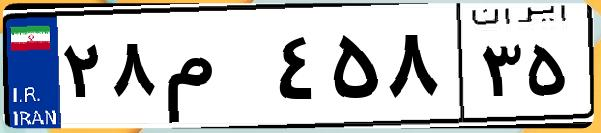2: (57, 26, 110, 100)
3: (475, 38, 525, 113)
4: (270, 28, 330, 110)
5: (330, 28, 385, 110), (525, 38, 570, 115)
8: (385, 28, 445, 110), (110, 28, 158, 98)
م: (158, 20, 270, 120)
